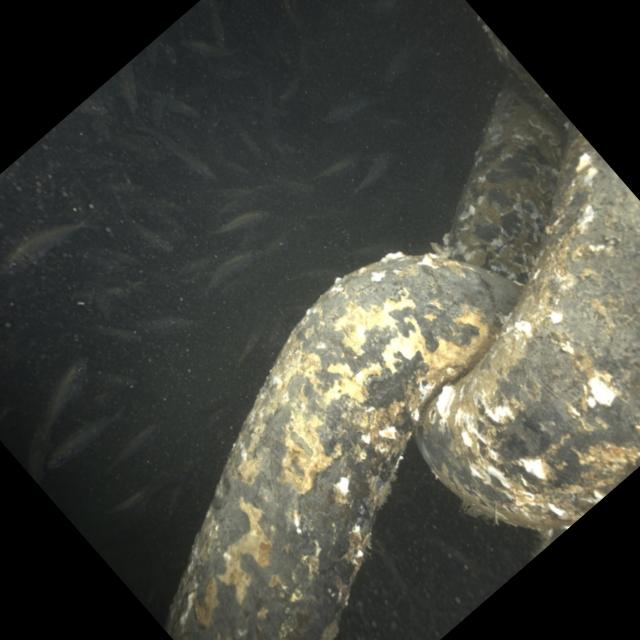ChainLink: (166, 254, 518, 640), (417, 122, 640, 530), (436, 85, 564, 283), (478, 15, 567, 117)
